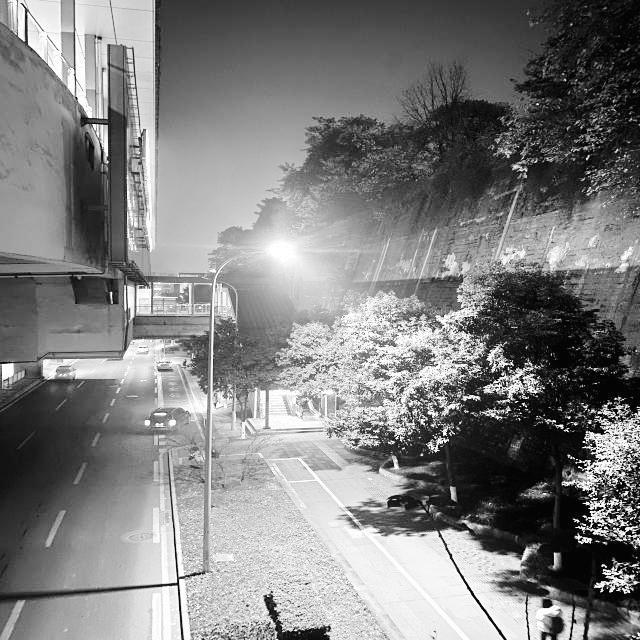Light: (195, 243, 299, 572)
